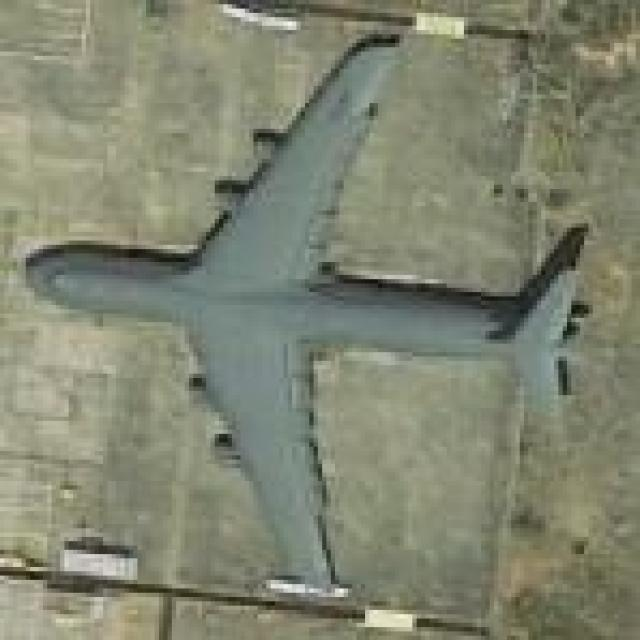C-5_TopDown: (19, 32, 599, 613)
